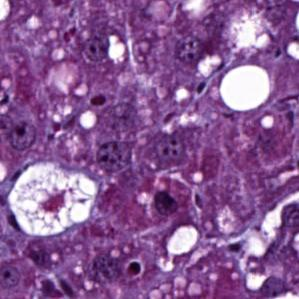ballooning: (5, 159, 100, 238)
